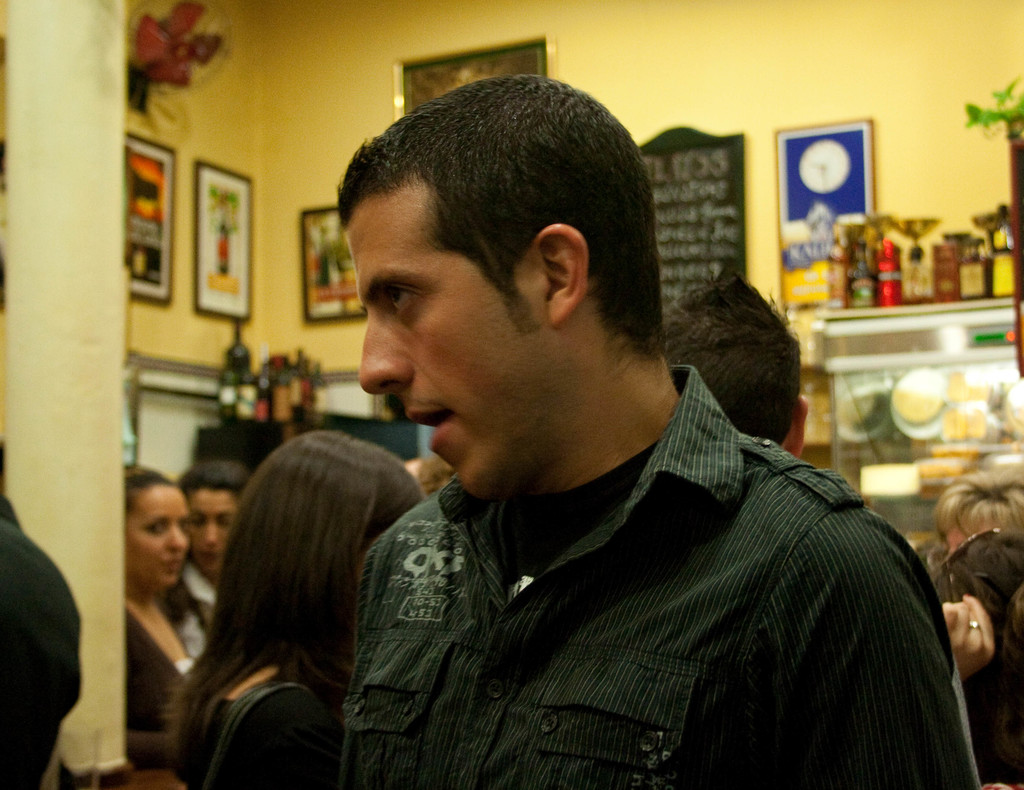Human-face: (349, 215, 545, 501), (122, 488, 188, 586), (192, 489, 241, 572), (943, 520, 987, 552)
